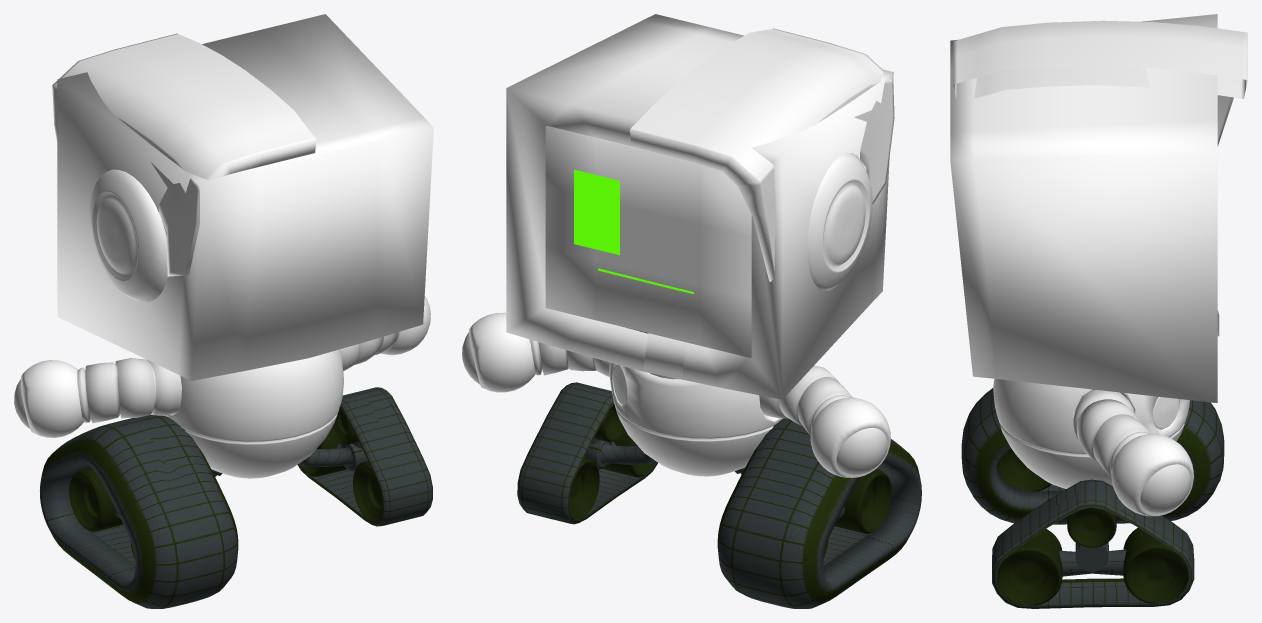
The model's file is avatar5.glb.
3 renders of one model, left to right at view 1: azimuth 30°, elevation 25°; view 2: azimuth 150°, elevation 25°; view 3: azimuth 270°, elevation 25°, orthographic. The views are drawn at different scales.
Visible parts, largest first — view 1: main head, tire R, helmet, main body, arm R, tire L, ears, wheels L, wheels R, arm L, wheels L base; view 2: main head, screen, helmet, tire R, main body, tire L, arm R, ears, arm L, Eyes, wheels L, wheels R (+2 smaller); view 3: main head, helmet, main body, tire R, arm L, wheels L, tire L, wheels R, wheels L base M, wheels L base.
Boxes of the visible parts, left/top/right/bottom form: main head: left=57, top=14, right=433, bottom=380; tire R: left=40, top=415, right=238, bottom=608; helmet: left=52, top=33, right=316, bottom=276; main body: left=164, top=349, right=343, bottom=478; arm R: left=14, top=358, right=181, bottom=437; tire L: left=297, top=387, right=432, bottom=526; ears: left=89, top=169, right=167, bottom=302; wheels L: left=299, top=408, right=382, bottom=521; wheels R: left=69, top=467, right=135, bottom=559; arm L: left=340, top=295, right=430, bottom=371; wheels L base: left=299, top=444, right=367, bottom=471; main head: left=506, top=14, right=893, bottom=399; screen: left=545, top=126, right=751, bottom=357; helmet: left=630, top=28, right=894, bottom=281; tire R: left=717, top=418, right=921, bottom=608; main body: left=609, top=362, right=782, bottom=476; tire L: left=517, top=382, right=657, bottom=524; arm R: left=759, top=365, right=890, bottom=477; ears: left=807, top=152, right=872, bottom=290; arm L: left=462, top=312, right=609, bottom=392; Eyes: left=574, top=169, right=619, bottom=255; wheels L: left=569, top=404, right=656, bottom=519; wheels R: left=823, top=469, right=891, bottom=558; main head: left=950, top=14, right=1217, bottom=402; helmet: left=953, top=20, right=1247, bottom=146; main body: left=993, top=378, right=1189, bottom=488; tire R: left=961, top=388, right=1224, bottom=524; arm L: left=1073, top=390, right=1193, bottom=516; wheels L: left=997, top=507, right=1188, bottom=605; tire L: left=992, top=479, right=1194, bottom=608; wheels R: left=997, top=448, right=1051, bottom=491; wheels L base M: left=1059, top=549, right=1126, bottom=576; wheels L base: left=1075, top=542, right=1108, bottom=571.
Bounding box in the file's own units: 0.9604 × 1.08 × 0.5778.
Materials: 9 (3 with a texture image).
